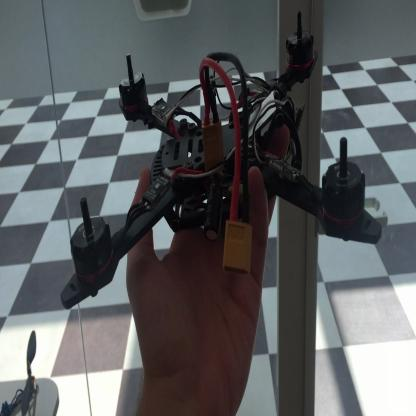drone: (63, 13, 389, 286)
